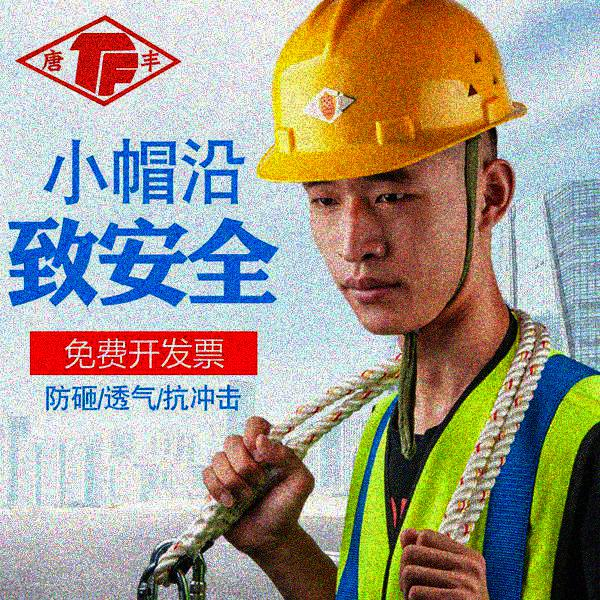helmet: (251, 1, 529, 331)
